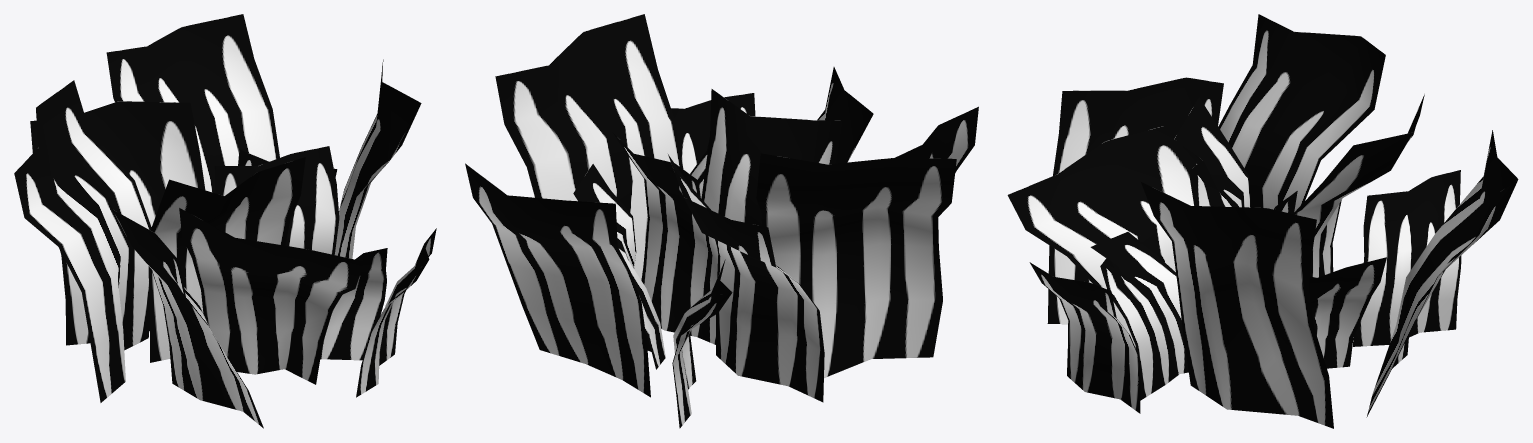
Rendered from Grass01_Finn.fbx.
3 renders of one model, left to right at view 1: azimuth 30°, elevation 25°; view 2: azimuth 150°, elevation 25°; view 3: azimuth 270°, elevation 25°, orthographic. The views are drawn at different scales.
Visible parts, largest first — view 1: Ebene_12; view 2: Ebene_12; view 3: Ebene_12.
Part boxes in pixels (x1,y1,x2,y2): Ebene_12: [14, 14, 436, 428]; Ebene_12: [465, 14, 978, 428]; Ebene_12: [1007, 14, 1518, 428].
Bounding box in the file's own units: 125 × 71.78 × 131.
1 material, 1 textured.
